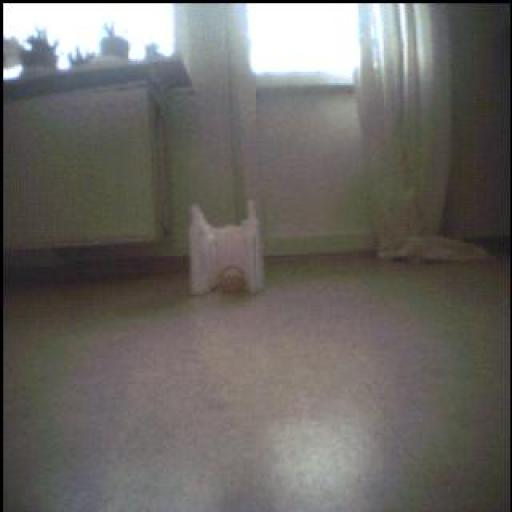Basket: (214, 266, 250, 297)
